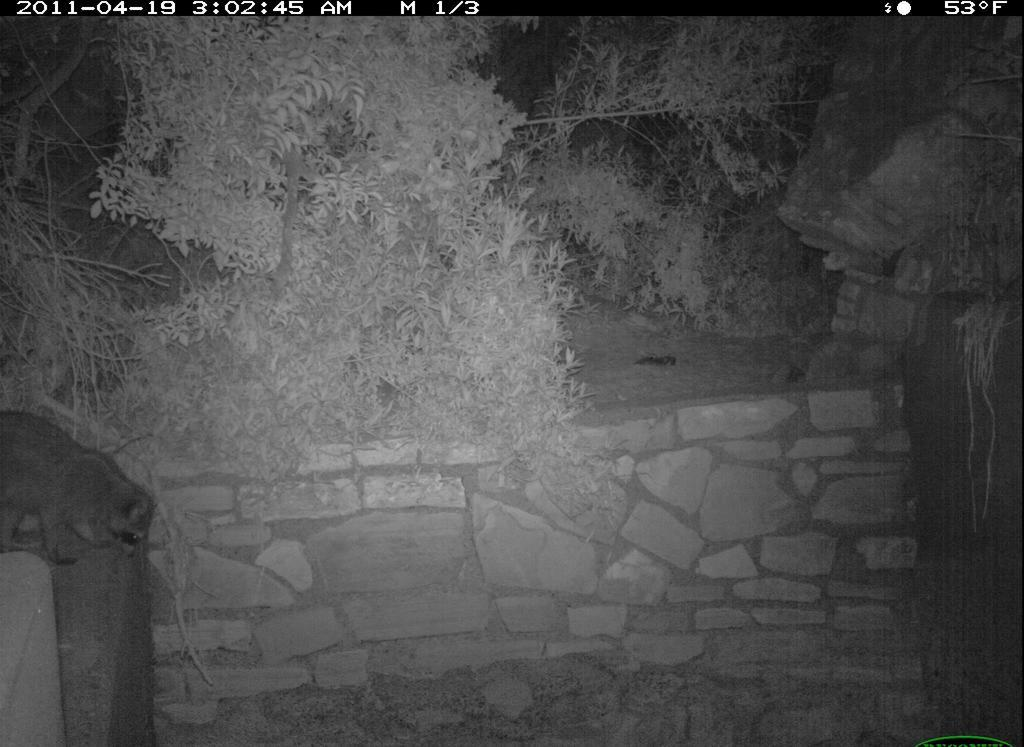raccoon: (2, 404, 163, 577)
